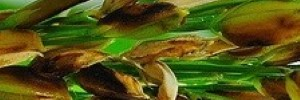RiceSheathBrownRot: (2, 3, 298, 97)
